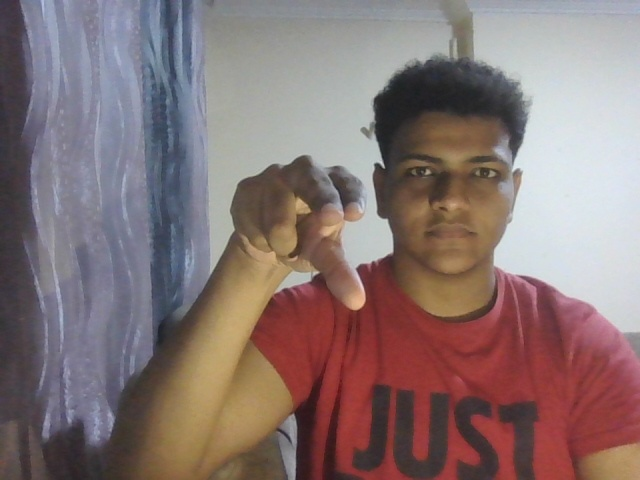no: (219, 140, 375, 331)
